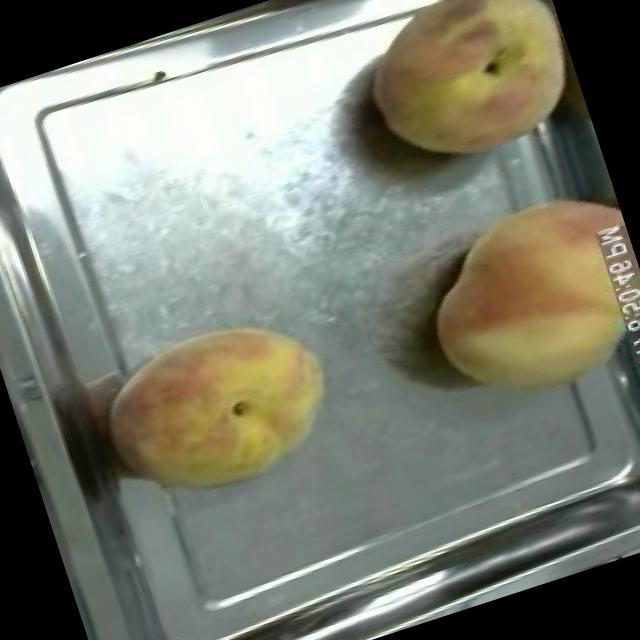Fruit: (394, 169, 640, 431), (80, 290, 352, 526), (332, 0, 594, 193)
